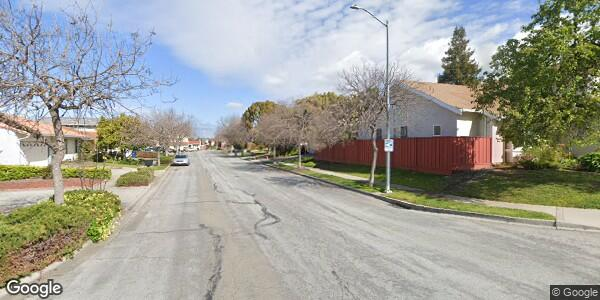Steel_Pole: (345, 3, 395, 193)
